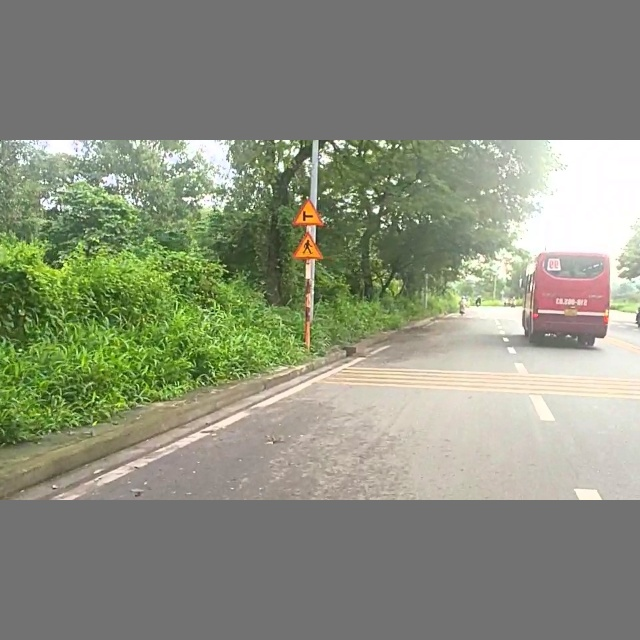W.205c: (287, 198, 328, 226)
W.224: (288, 231, 326, 263)
